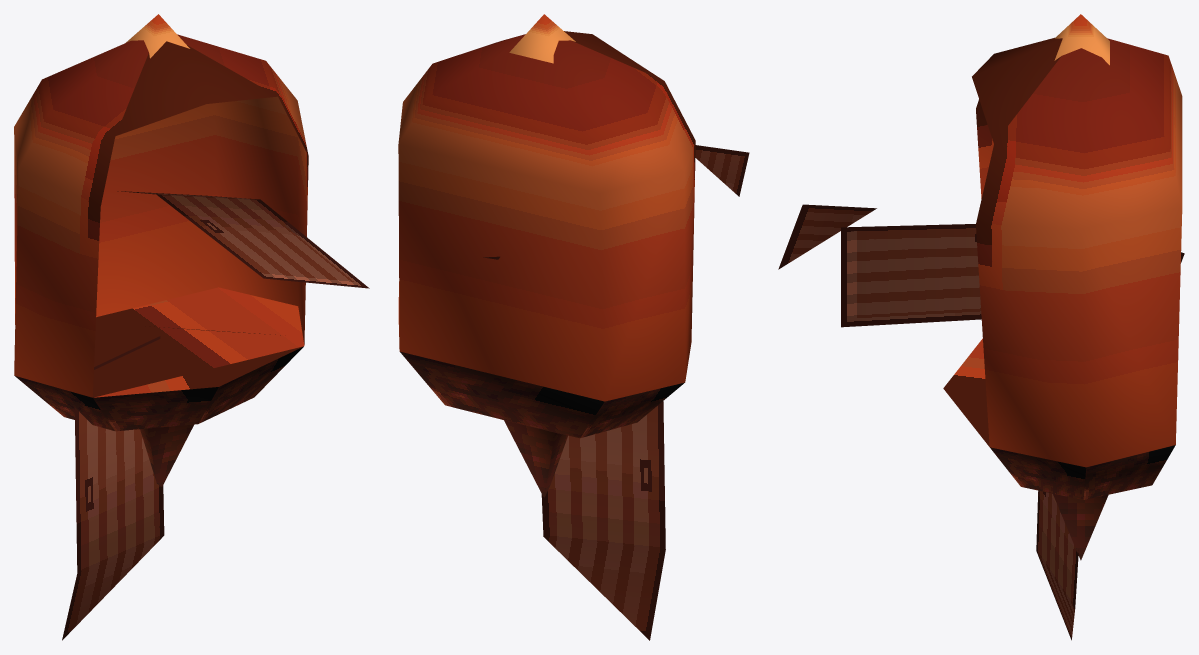
3 renders of one model, left to right at view 1: azimuth 30°, elevation 25°; view 2: azimuth 150°, elevation 25°; view 3: azimuth 270°, elevation 25°, orthographic. The views are drawn at different scales.
Visible parts, largest first — view 1: 3180IMFY06_02; view 2: 3180IMFY06_02; view 3: 3180IMFY06_02.
Part boxes in pixels (x1,y1,x2,y2): 3180IMFY06_02: [14, 14, 369, 640]; 3180IMFY06_02: [398, 14, 749, 640]; 3180IMFY06_02: [778, 14, 1184, 640].
Bounding box in the file's own units: 1.35 × 2.71 × 1.46.
3 materials, 3 textured.
